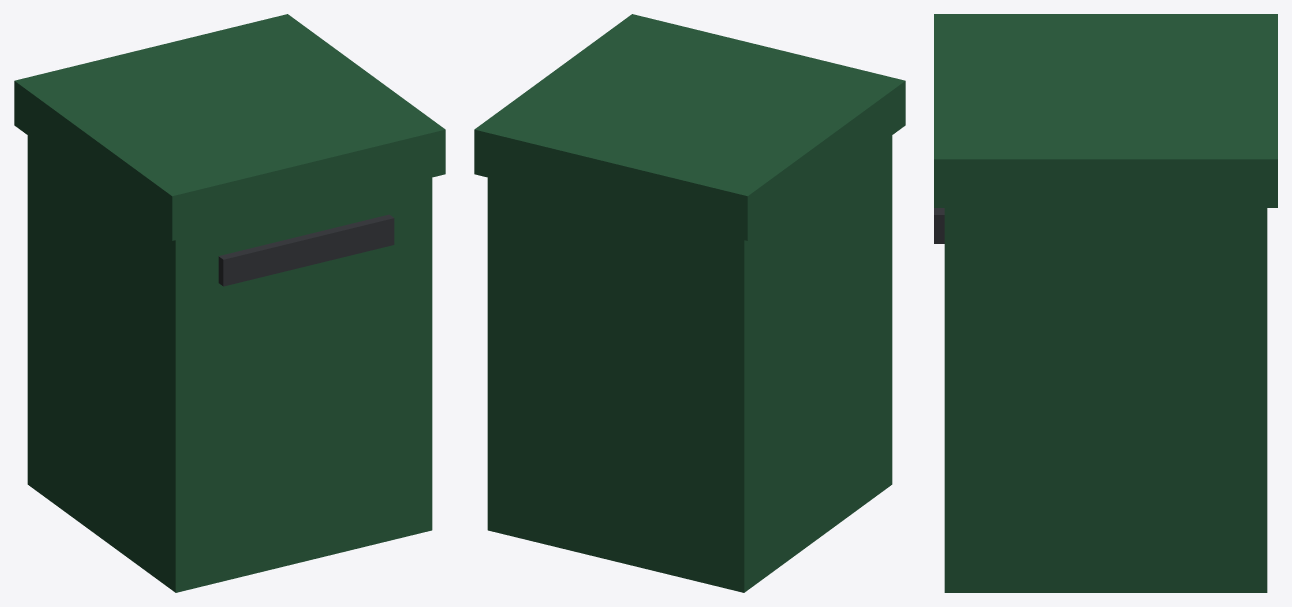
Rendered from tf_lost_found_bin.glb.
3 views of the same model, side by side, from view 1: azimuth 30°, elevation 25°; view 2: azimuth 150°, elevation 25°; view 3: azimuth 270°, elevation 25° (orthographic). The views are drawn at different scales.
Parts seen in each view (by area): view 1: tf_lost_found_bin; view 2: tf_lost_found_bin; view 3: tf_lost_found_bin.
Part boxes in pixels (bbox=[...]): tf_lost_found_bin: bbox=[14, 14, 445, 592]; tf_lost_found_bin: bbox=[474, 14, 905, 592]; tf_lost_found_bin: bbox=[934, 14, 1277, 592].
Size of what is drawn, in the model's own units: 0.64 by 0.9 by 0.64.
